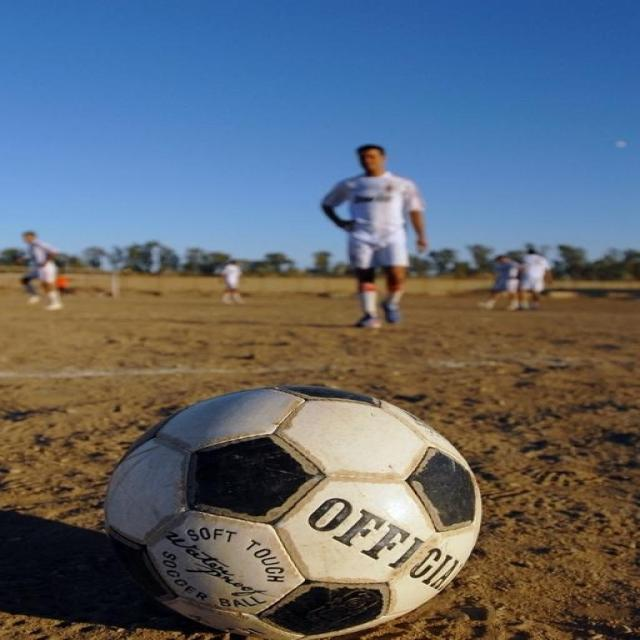Ball: (104, 385, 478, 639)
